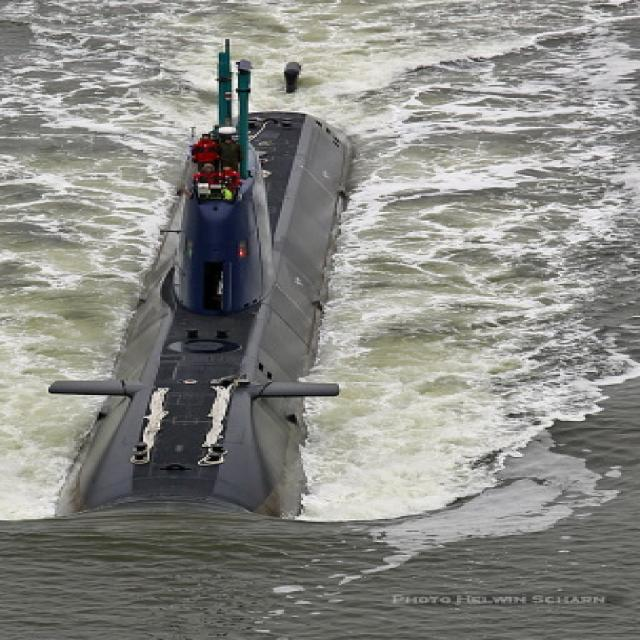submarine: (35, 66, 399, 536)
